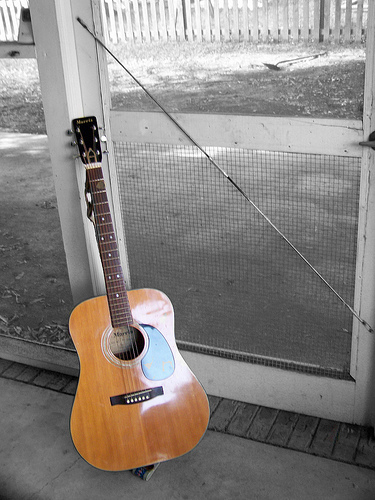guitar: (66, 115, 212, 474)
